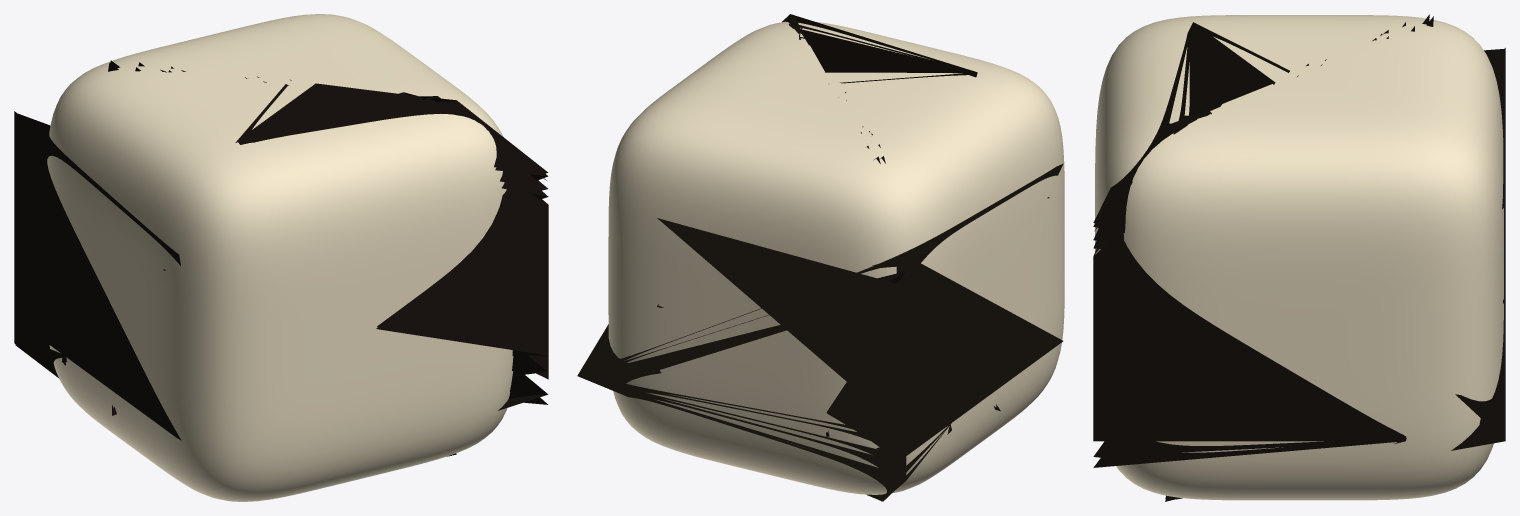
Rendered from dice.obj.
3 renders of one model, left to right at view 1: azimuth 30°, elevation 25°; view 2: azimuth 150°, elevation 25°; view 3: azimuth 270°, elevation 25°, orthographic. The views are drawn at different scales.
Visible parts, largest first — view 1: body, pips; view 2: body, pips; view 3: body, pips.
Part boxes in pixels (x1,y1,x2,y2): body: [47, 14, 513, 501]; pips: [14, 60, 548, 456]; body: [608, 21, 1064, 494]; pips: [577, 14, 1063, 501]; body: [1095, 15, 1503, 500]; pips: [1093, 14, 1505, 501].
Bounding box in the file's own units: 1.01 × 1.01 × 1.01.
